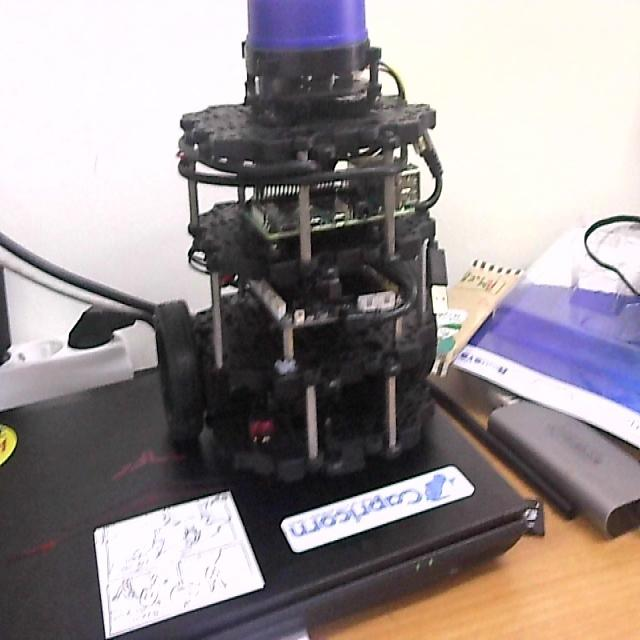turtle: (152, 0, 450, 487)
